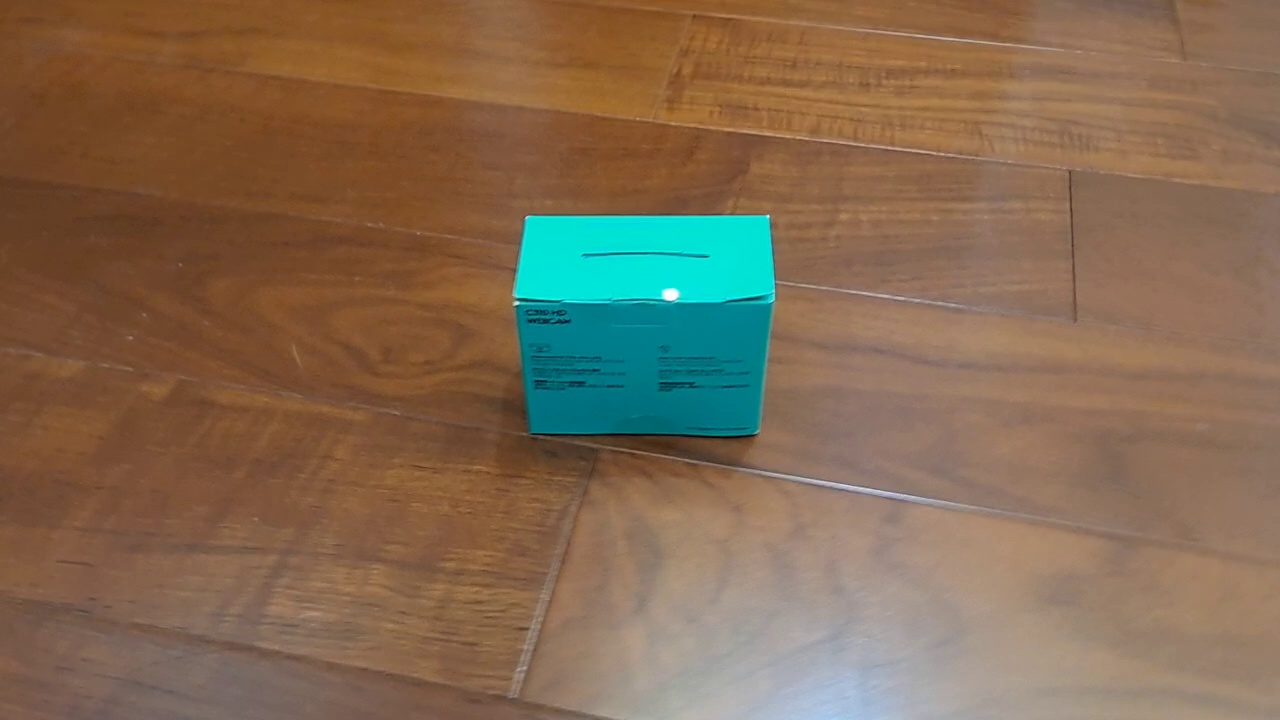webcam: (508, 208, 777, 440)
